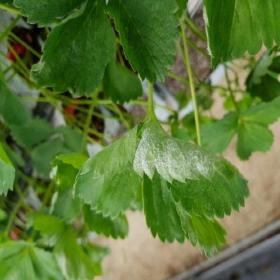Powdery Mildew Leaf: (133, 110, 250, 222), (203, 0, 279, 70)
